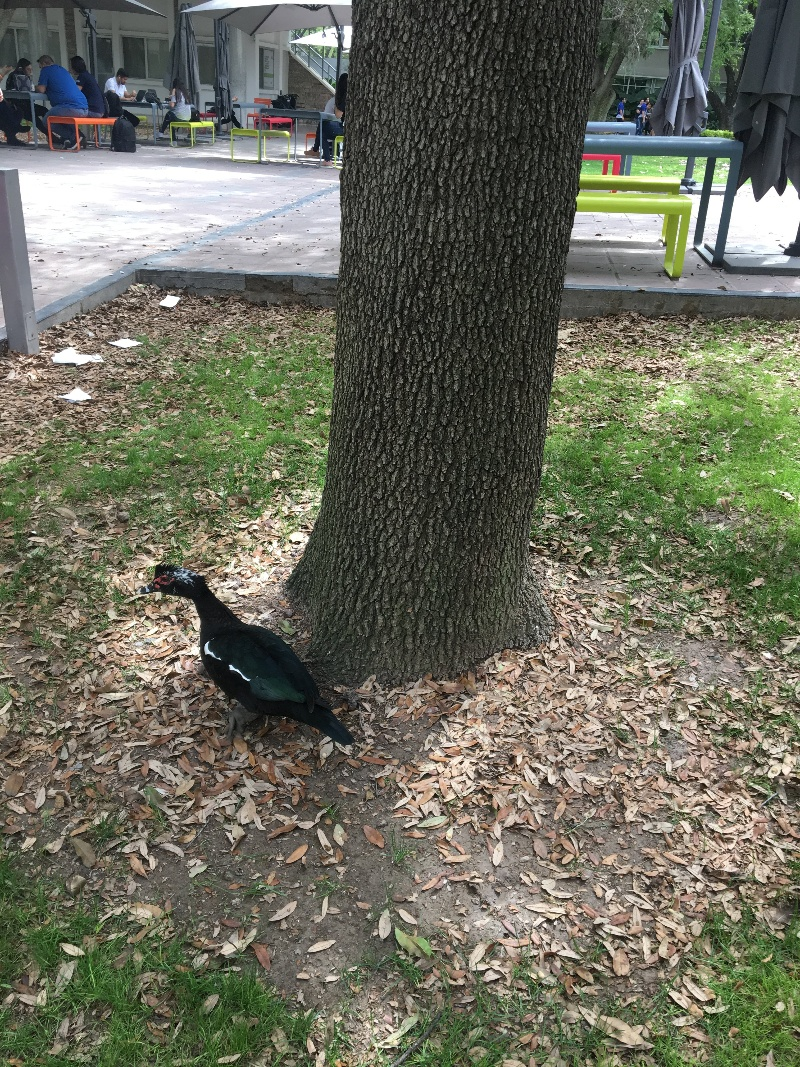pato: (144, 559, 353, 741)
